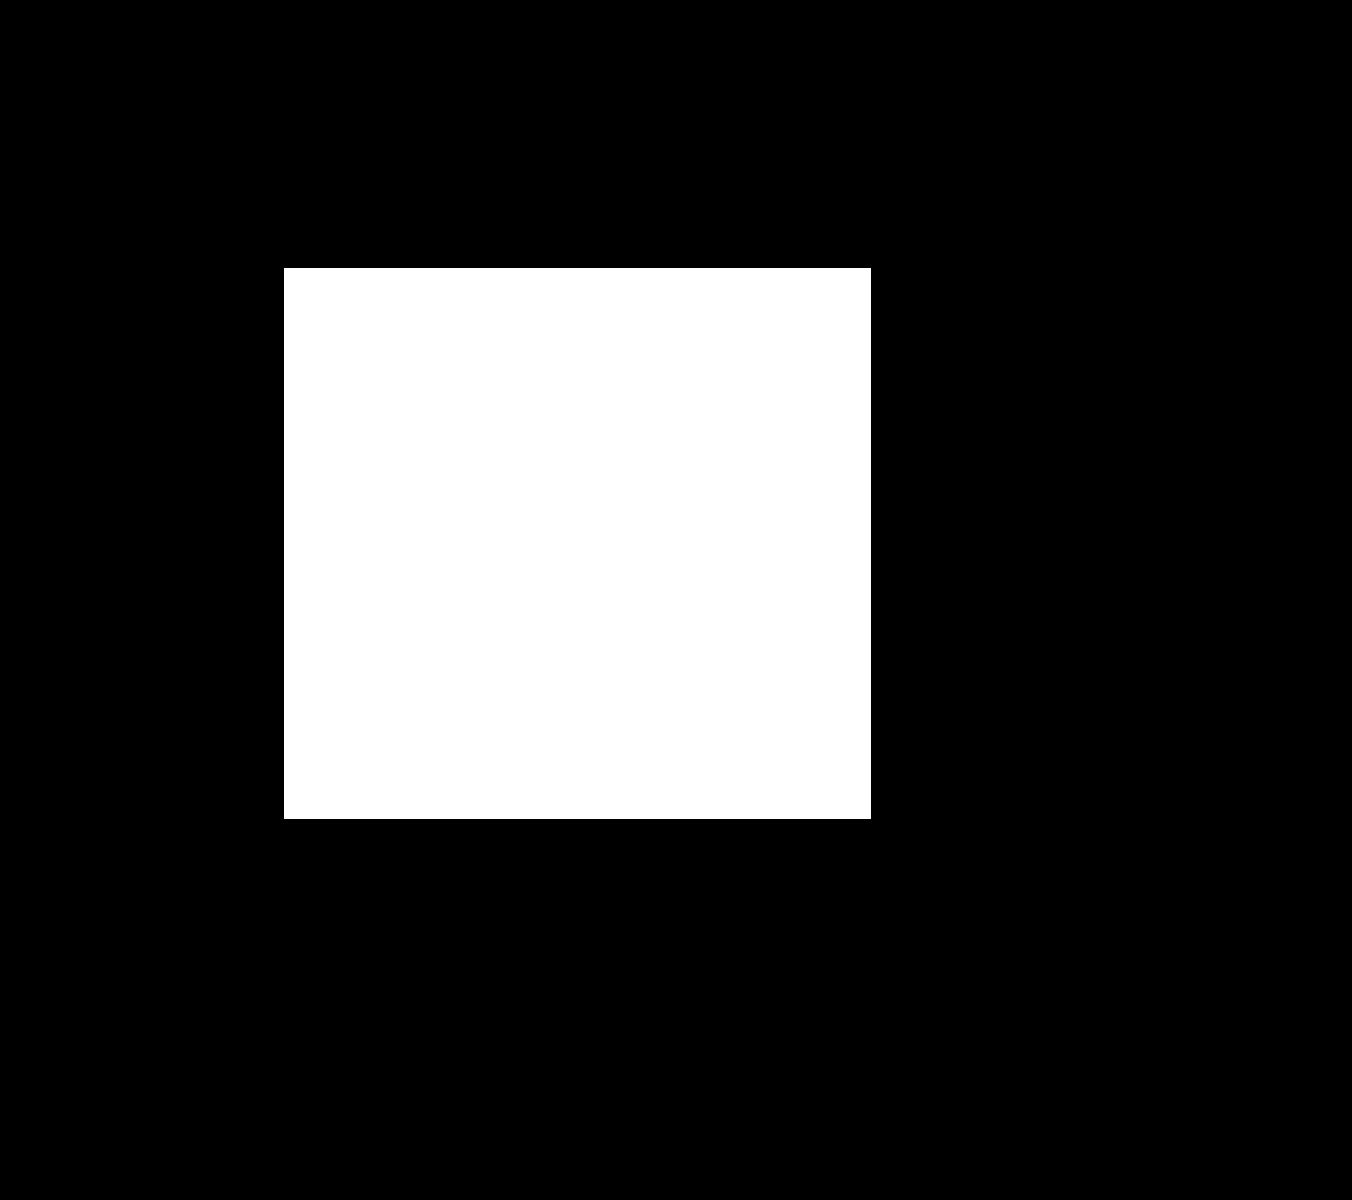table: (284, 268, 871, 819)
